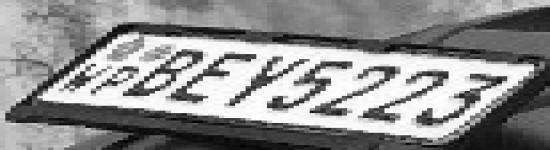2: (342, 61, 473, 129), (293, 58, 424, 123)
3: (399, 67, 523, 135)
5: (240, 54, 369, 119)
B: (109, 44, 219, 104)
E: (147, 46, 273, 109)
P: (79, 63, 150, 98)
W: (48, 59, 119, 94)
Y: (201, 50, 323, 115)
